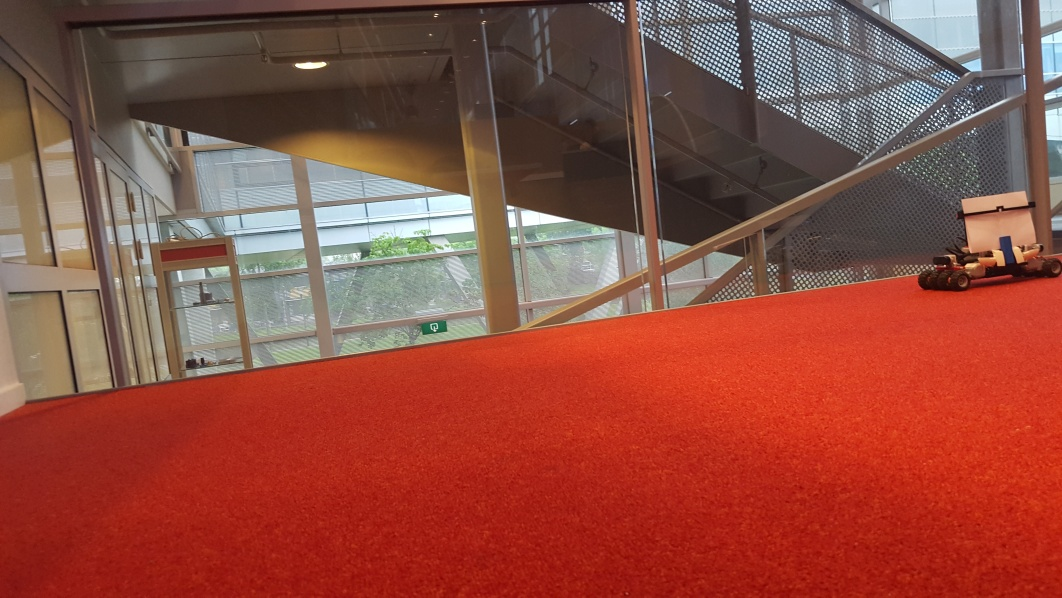car: (916, 189, 1062, 292)
